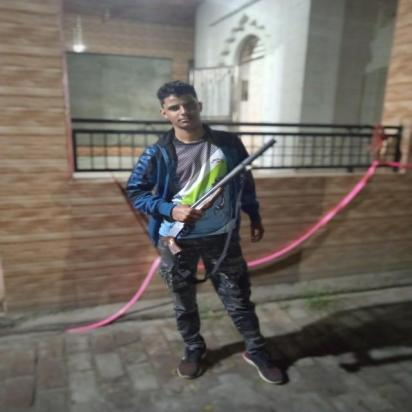Gun: (162, 137, 278, 258)
